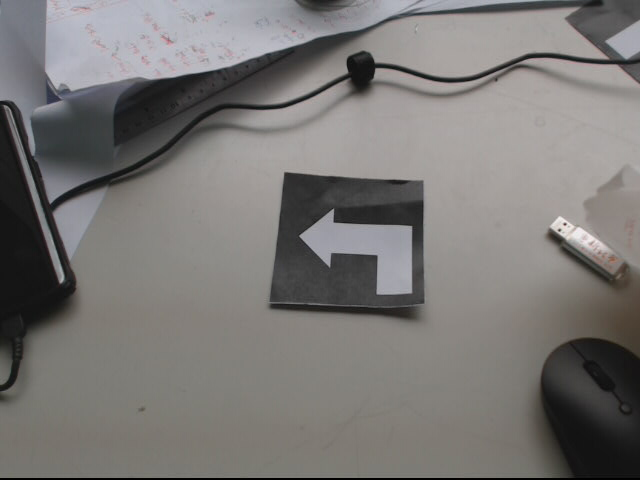left: (269, 170, 430, 310)
